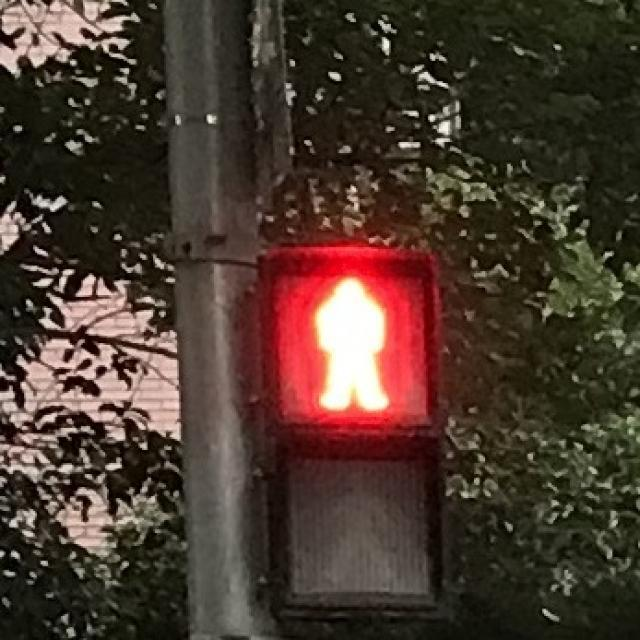red-crossing: (271, 258, 424, 428)
